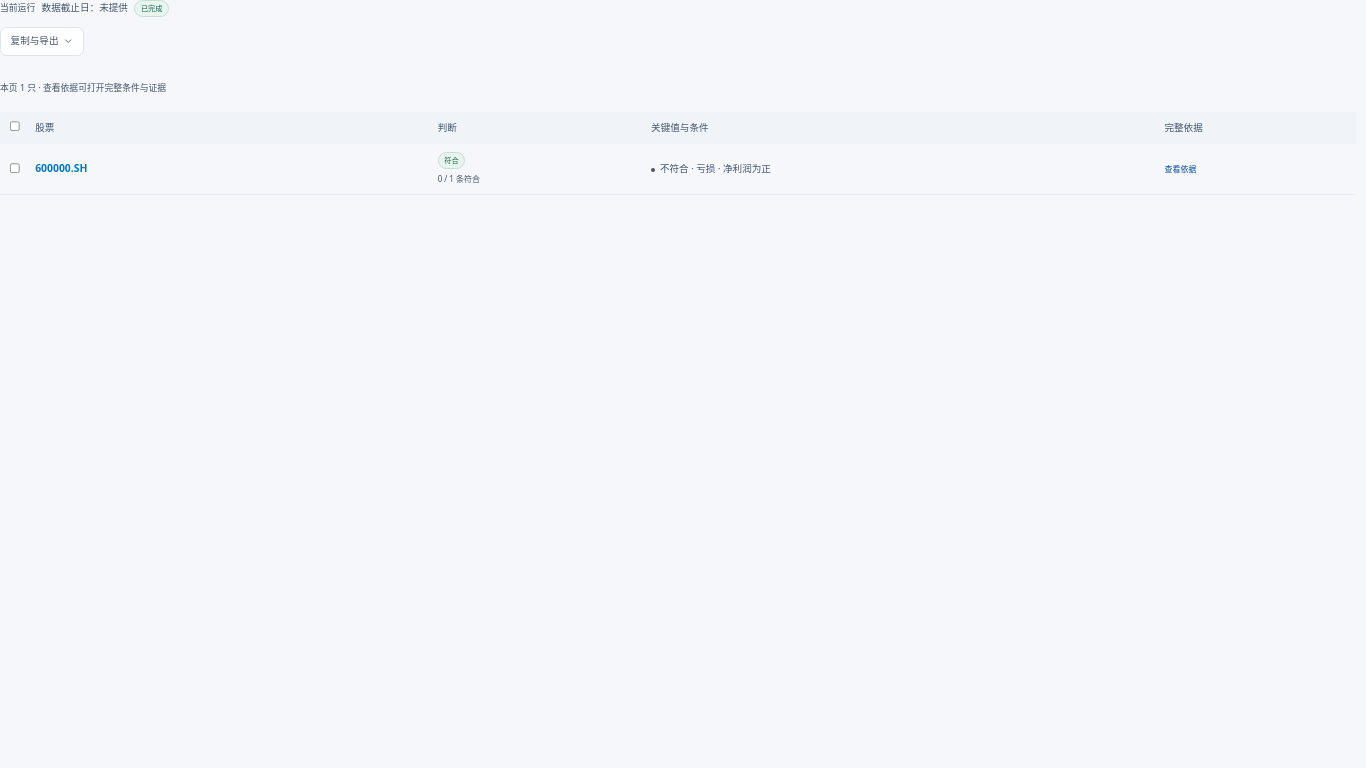
Scenario: shows actual false-condition evidence for a true result without assuming AND logic
Expected: the text "不符合 · 亏损 · 净利润为正" is shown, [651,162,771,175]
Click the button with aria-label "查看 600000.SH 条件与依据".
click(1180, 168)  # box [1164,162,1196,175]
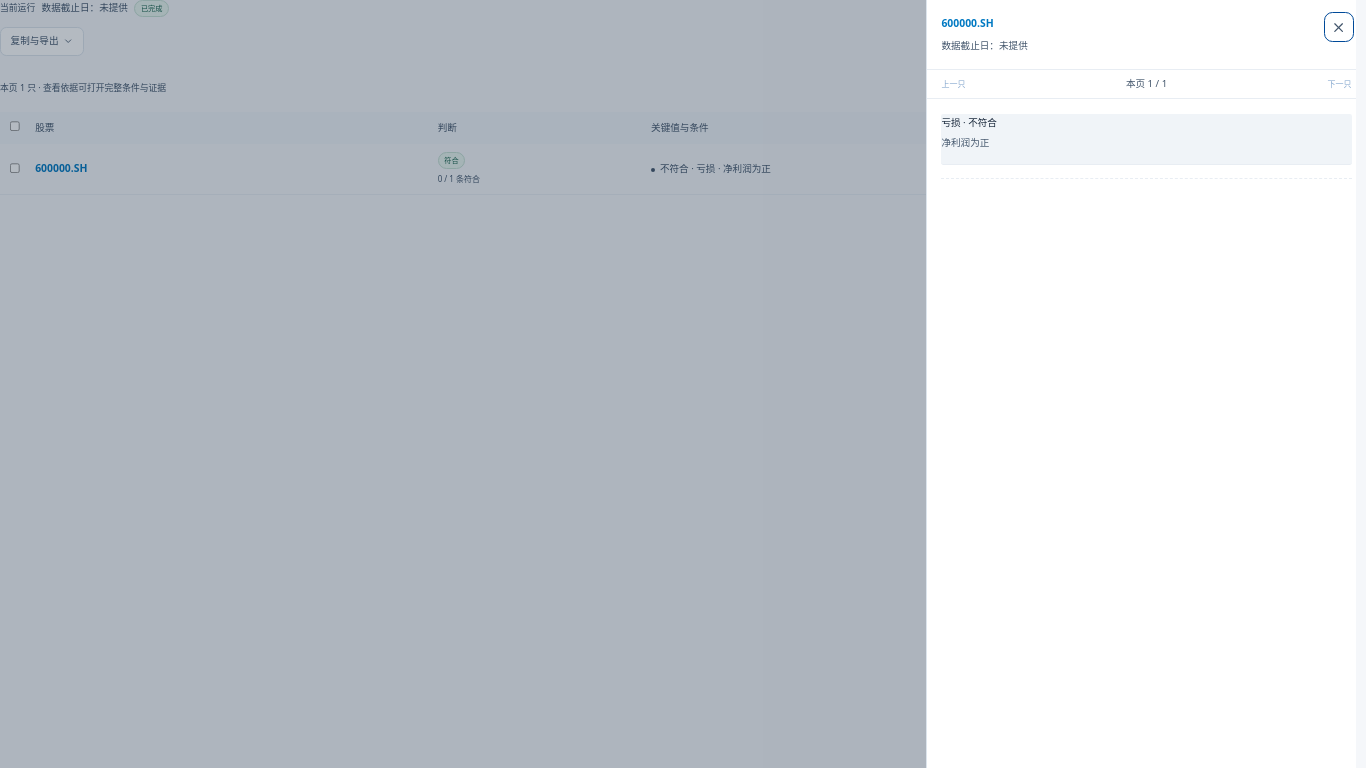
Result: the text "亏损 · 不符合" is shown at [941,116,997,129]
